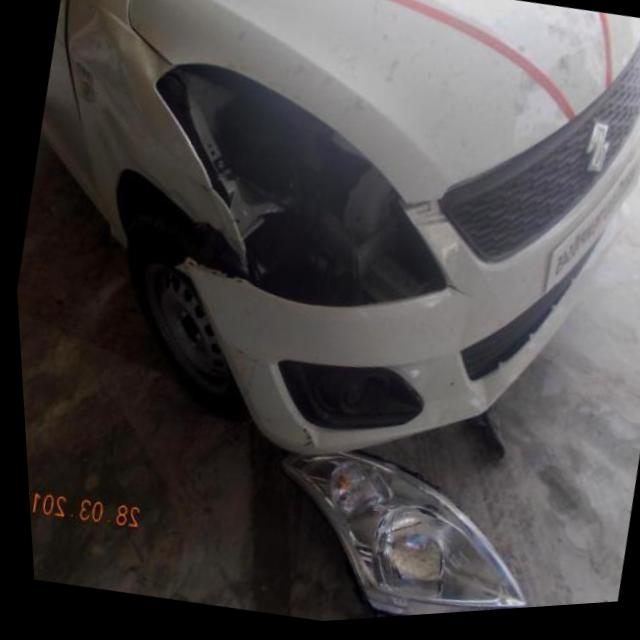Car-Damage: (110, 34, 515, 362), (503, 45, 612, 174), (48, 0, 154, 132), (203, 338, 263, 417), (455, 380, 500, 429), (286, 424, 315, 462)
